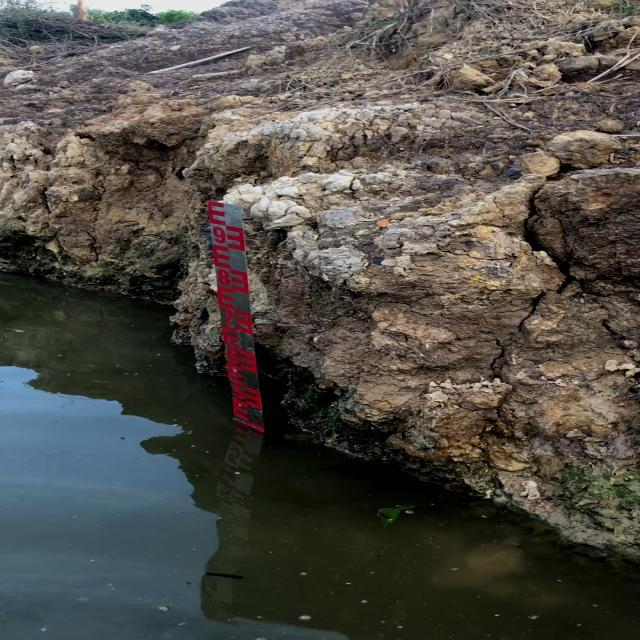ruler: (200, 192, 268, 434)
value: (210, 223, 230, 250), (213, 266, 232, 291), (219, 308, 237, 328), (230, 381, 247, 402), (224, 346, 242, 360)
